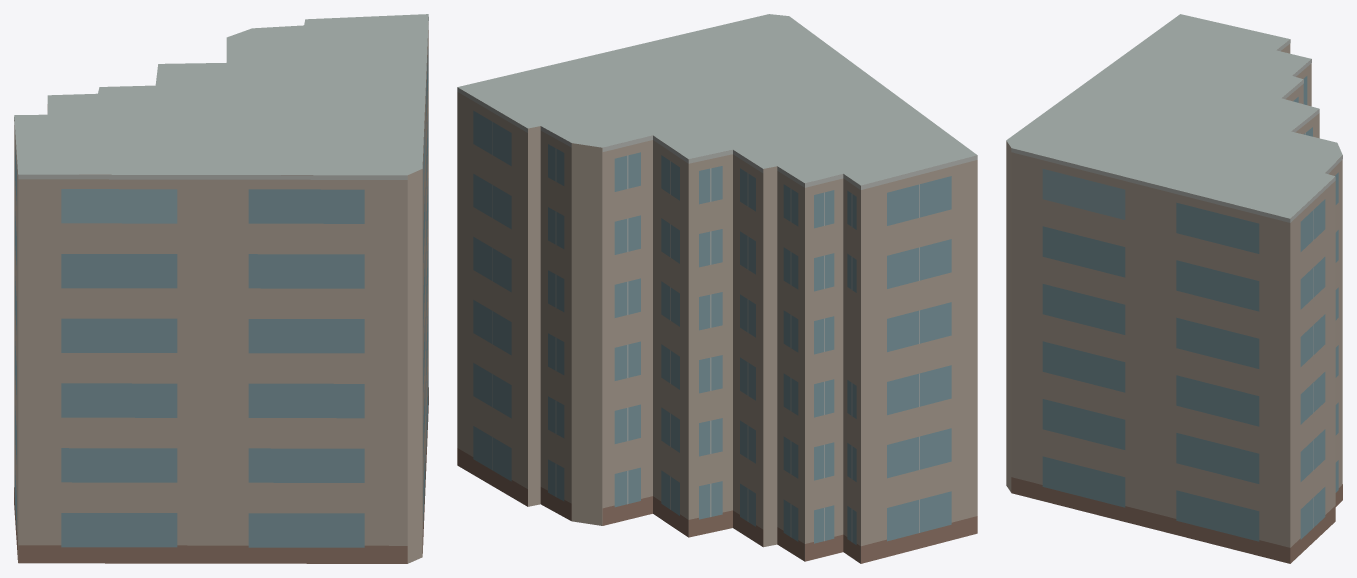
Rendered from survey-upis-32595431.glb.
3 renders of one model, left to right at view 1: azimuth 30°, elevation 25°; view 2: azimuth 150°, elevation 25°; view 3: azimuth 270°, elevation 25°, orthographic. The views are drawn at different scales.
Visible parts, largest first — view 1: survey-upis-32595431.tmp; view 2: survey-upis-32595431.tmp; view 3: survey-upis-32595431.tmp.
Part boxes in pixels (x1,y1,x2,y2): survey-upis-32595431.tmp: (14,14,428,563); survey-upis-32595431.tmp: (457,14,977,563); survey-upis-32595431.tmp: (1006,14,1342,563).
Size of the model in its own units: 25.72 by 20.2 by 17.86.
